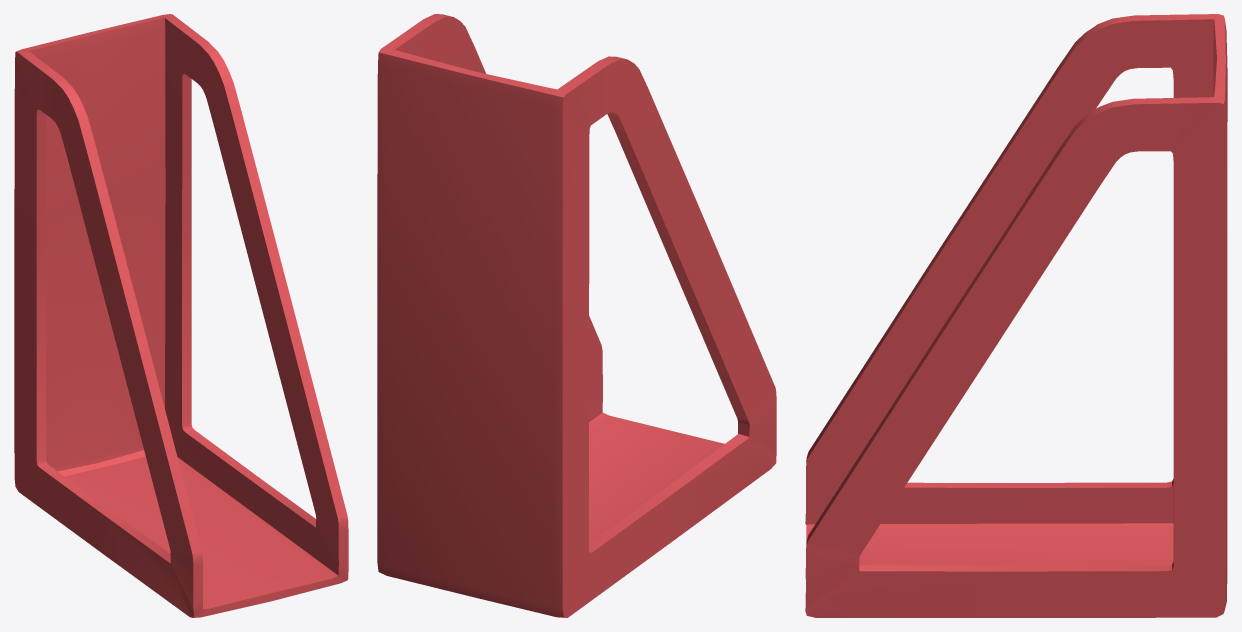
File: file_red.fbx
3 renders of one model, left to right at view 1: azimuth 30°, elevation 25°; view 2: azimuth 150°, elevation 25°; view 3: azimuth 270°, elevation 25°, orthographic. The views are drawn at different scales.
Visible parts, largest first — view 1: folder stand; view 2: folder stand; view 3: folder stand.
Part boxes in pixels (x1,y1,x2,y2): folder stand: (14,14,348,617); folder stand: (377,14,776,617); folder stand: (805,14,1227,617).
Size of the model in its own units: 1369 by 3706 by 2741.
